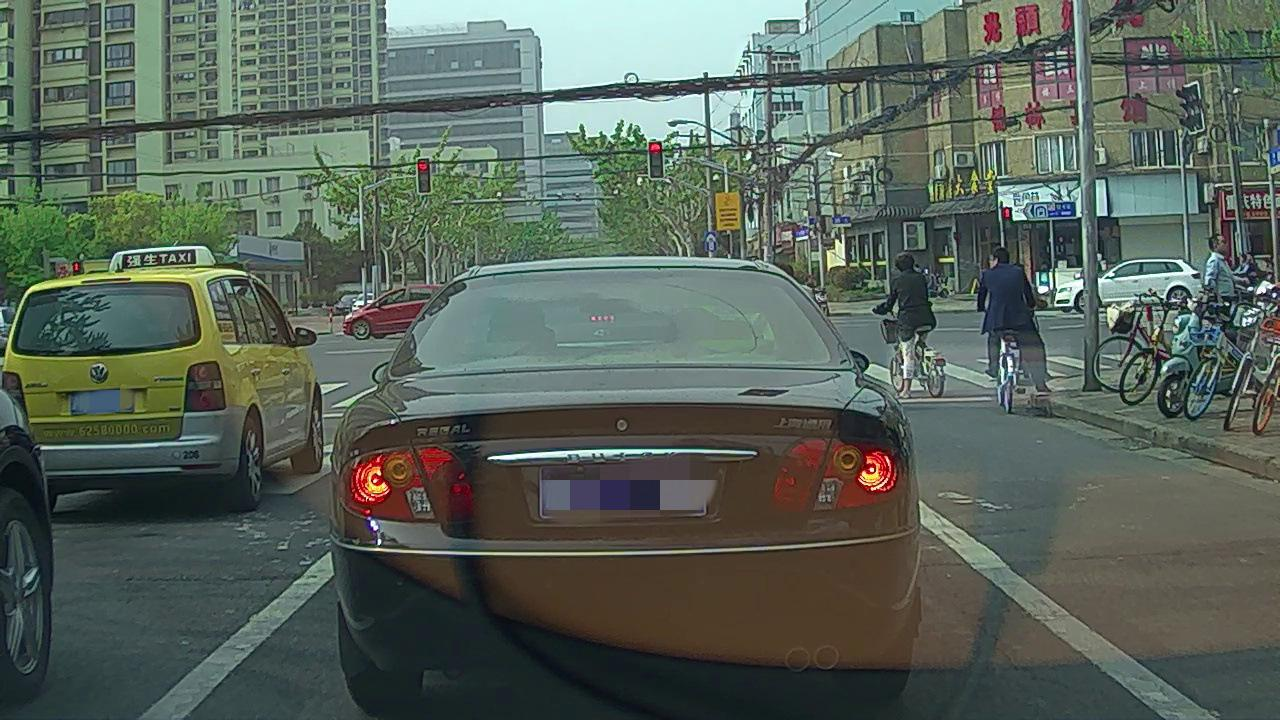traffic_light: (416, 158, 431, 193), (649, 142, 663, 178)
